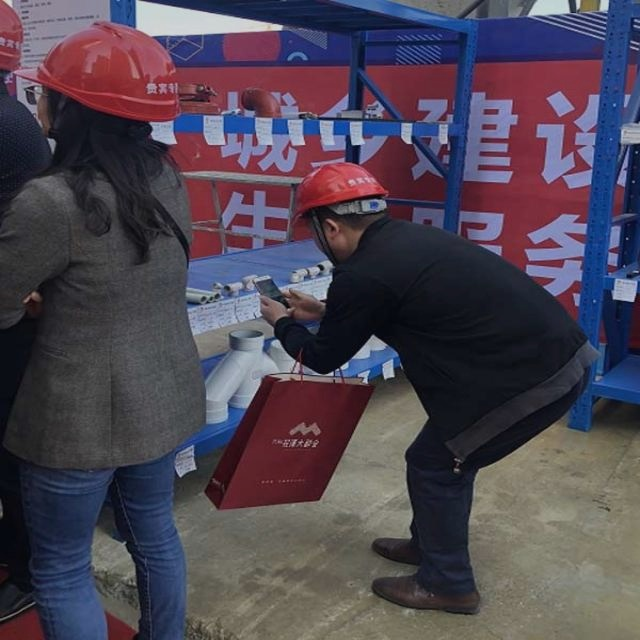Con_Casco: (15, 17, 180, 138), (293, 163, 388, 244)
